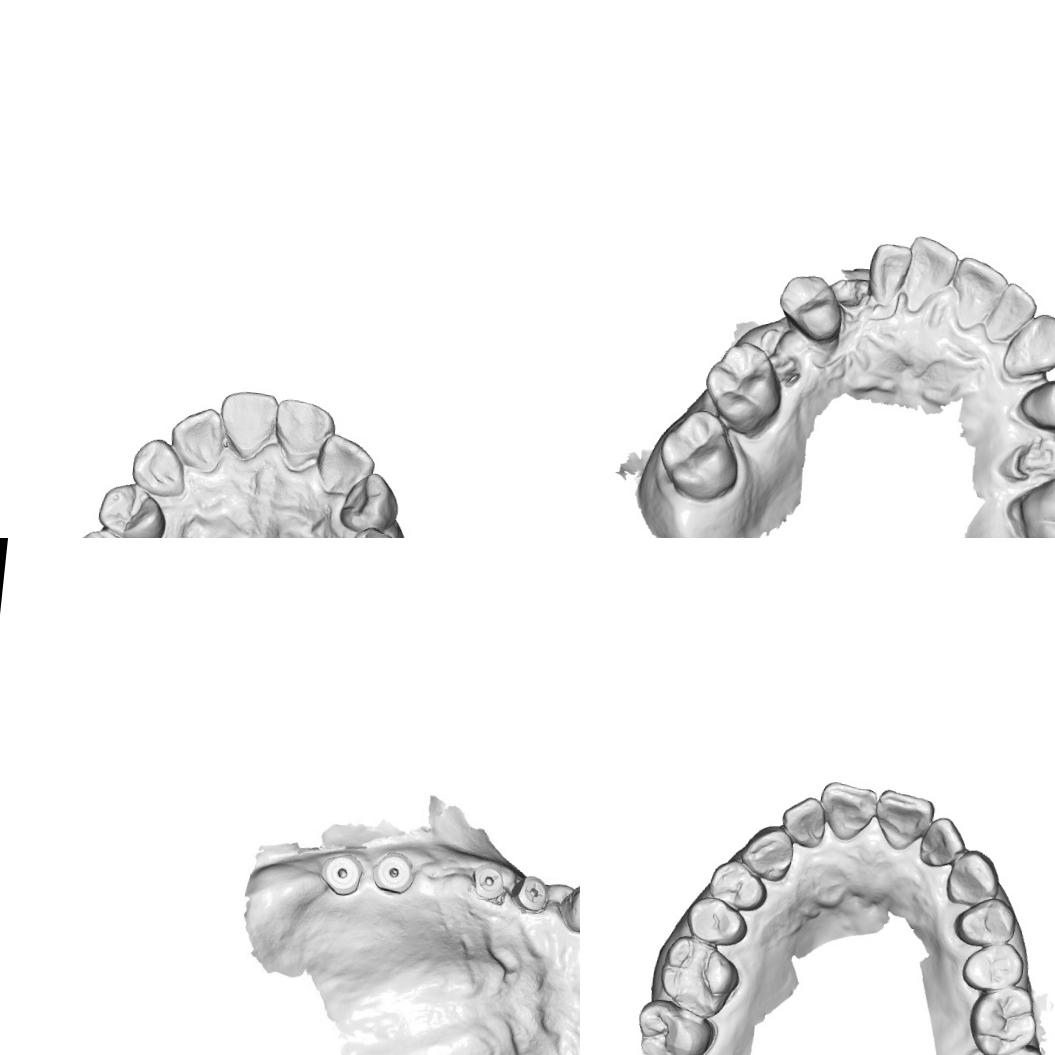canine: (127, 435, 193, 500), (338, 468, 402, 535), (999, 308, 1055, 382), (942, 845, 1004, 909), (736, 821, 796, 883)
implant: (314, 848, 370, 904), (367, 844, 418, 901)
implant_minus: (466, 856, 512, 903)
implant_plus: (510, 868, 552, 916)
incisor: (946, 254, 1014, 326), (214, 384, 280, 458), (868, 786, 936, 854), (167, 404, 232, 474), (268, 396, 336, 461), (816, 777, 880, 845), (902, 231, 958, 303), (314, 432, 376, 497), (984, 280, 1040, 346), (864, 239, 913, 306), (916, 814, 970, 872), (778, 791, 830, 851)
molar: (696, 334, 788, 438), (654, 404, 744, 506), (655, 933, 744, 1023), (964, 978, 1042, 1055), (633, 995, 722, 1055), (1011, 464, 1055, 538), (957, 1035, 1050, 1055)
premolar: (772, 272, 850, 346), (93, 479, 171, 538), (683, 893, 752, 950), (959, 937, 1026, 994), (952, 894, 1020, 950), (706, 856, 770, 914), (1014, 375, 1055, 438)
